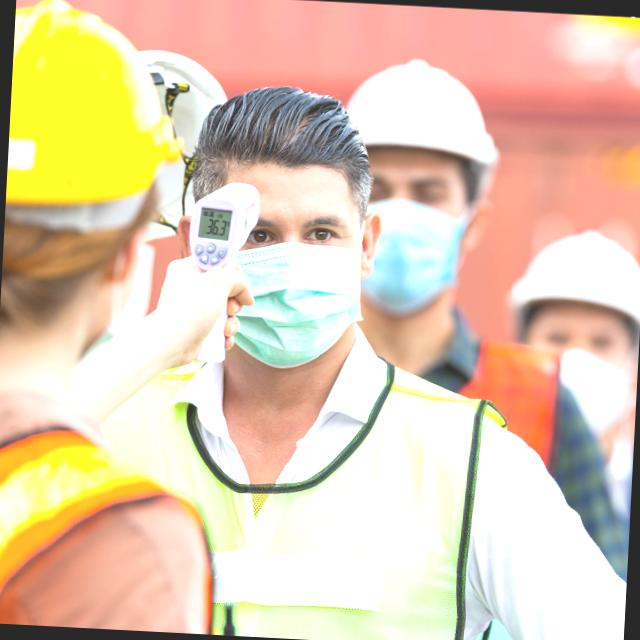helmet: (6, 11, 180, 217)
no-goggles: (232, 206, 358, 256)
no-helmet: (174, 70, 396, 192)
vest: (117, 358, 506, 640)
